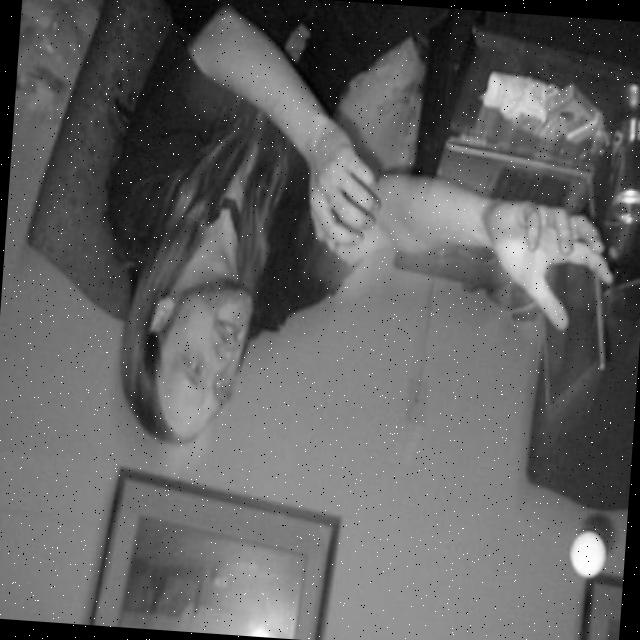ping-pong-ball: (567, 527, 609, 580)
